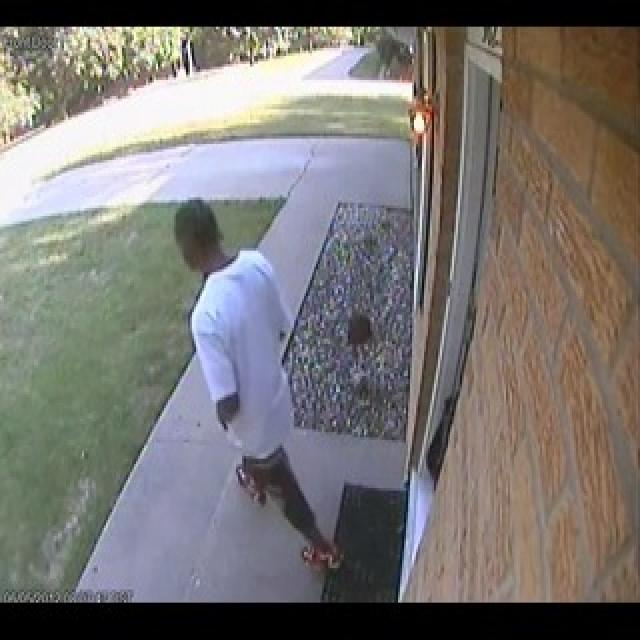thief: (154, 183, 340, 602)
